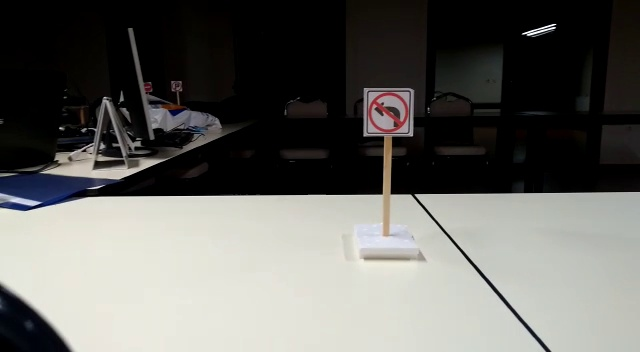sola_donulmez: (366, 85, 410, 136)
